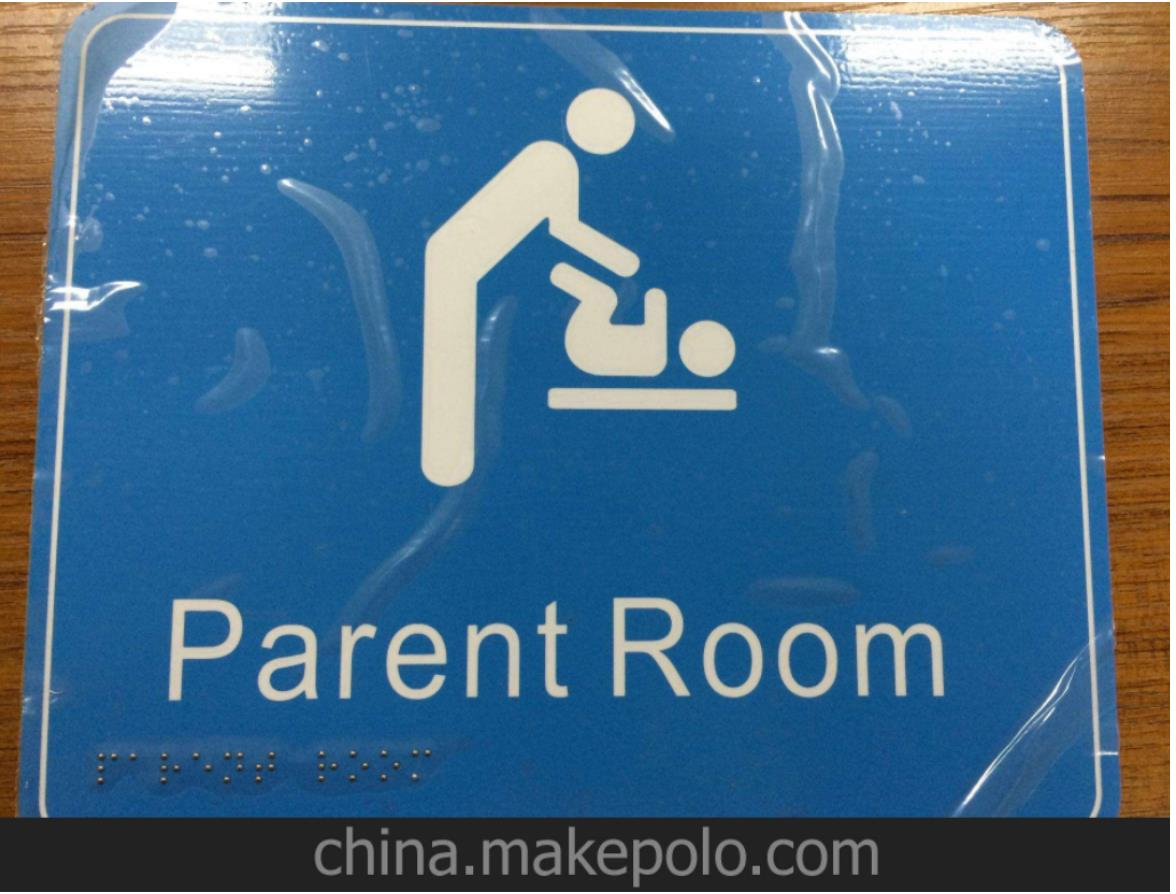Braille: (216, 746, 251, 792), (312, 743, 344, 792), (157, 746, 190, 792), (409, 744, 443, 788), (376, 746, 404, 794), (345, 746, 374, 792), (186, 748, 217, 790), (253, 746, 281, 790), (126, 747, 153, 789), (93, 750, 120, 788)
